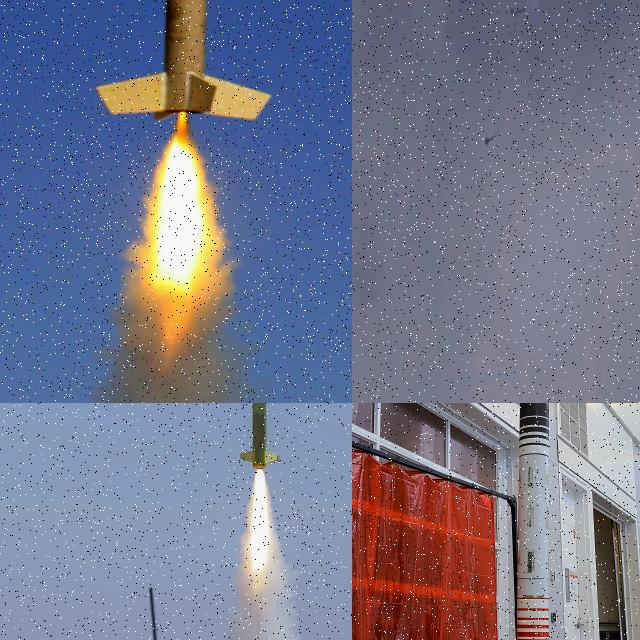Rocket: (91, 0, 279, 138), (516, 403, 549, 640), (238, 403, 283, 471), (485, 133, 496, 145)
